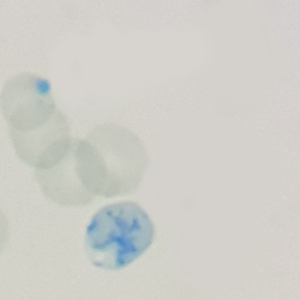aggregate reticulocyte: (83, 200, 159, 272)
erythrocyte: (74, 123, 150, 201), (32, 136, 105, 207), (5, 100, 74, 167), (1, 70, 57, 131)
